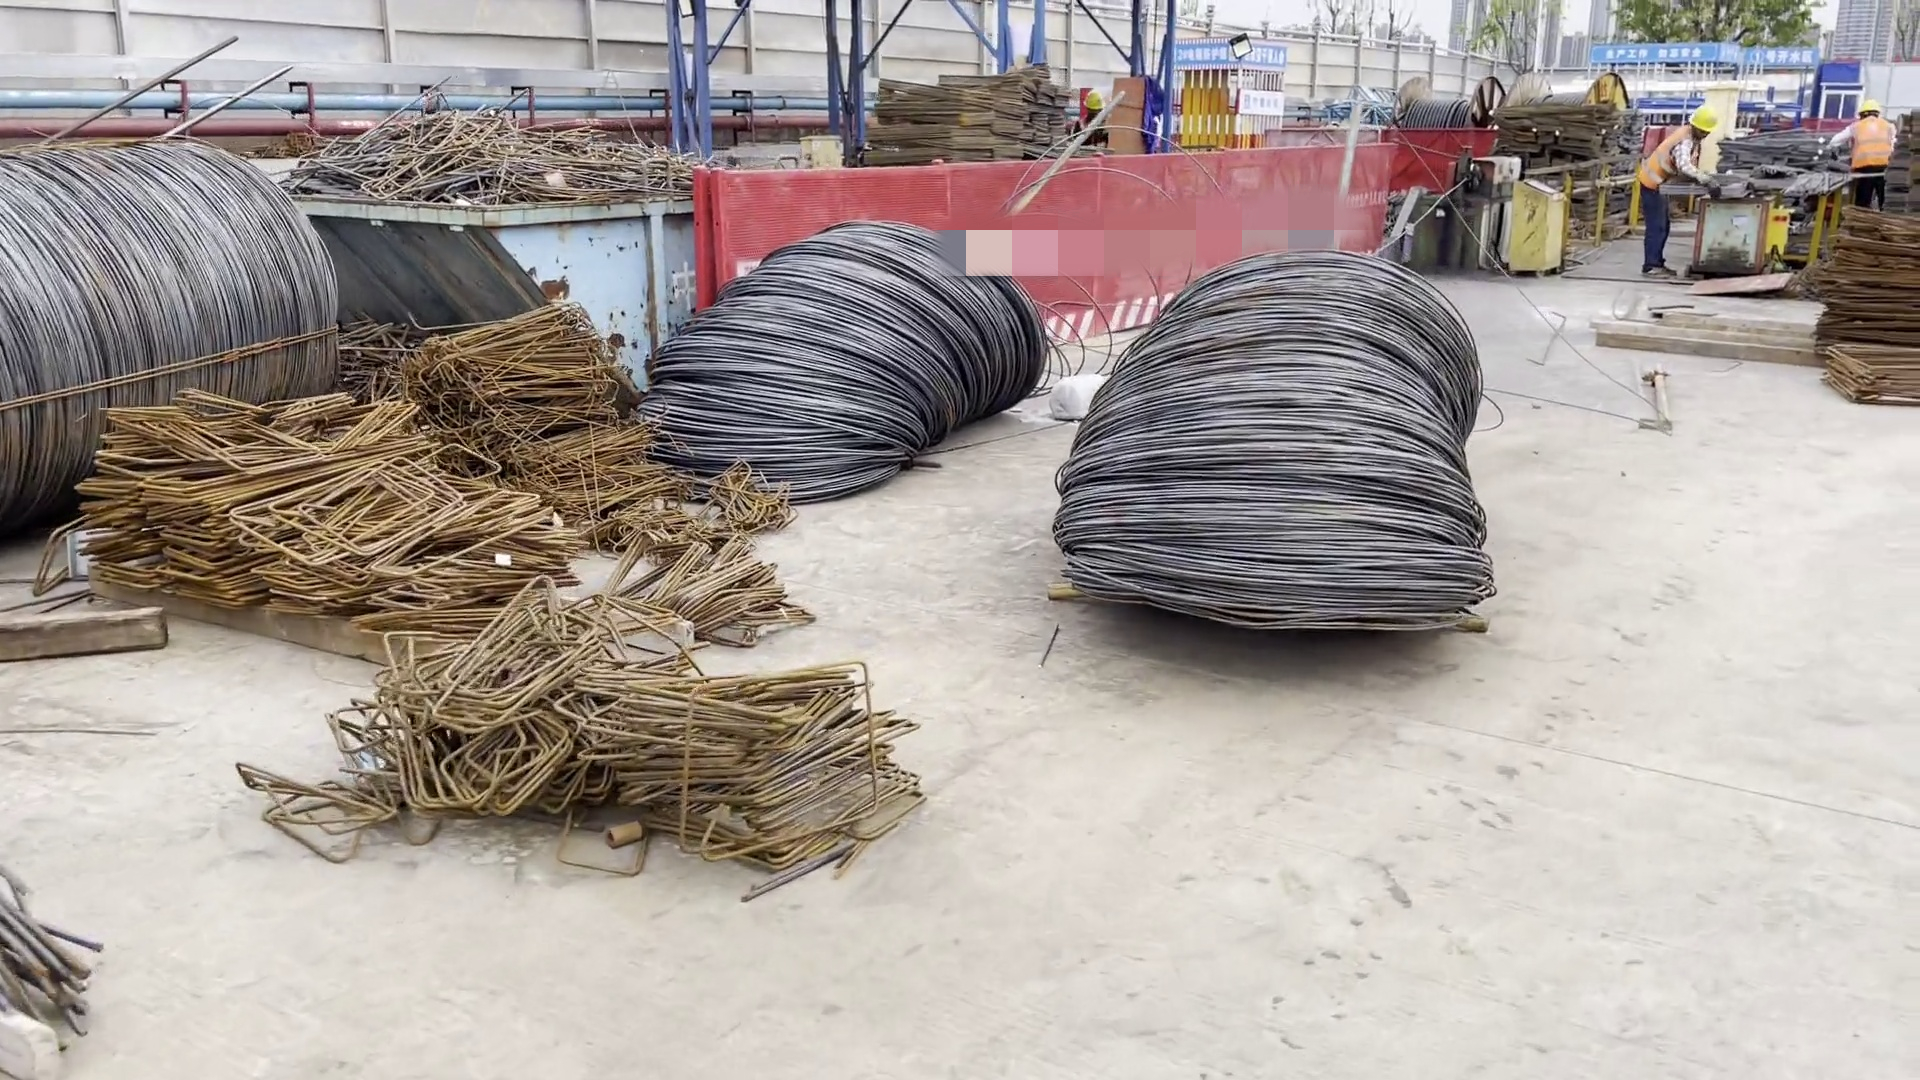cutter: (1676, 182, 1783, 276)
ebox: (1487, 176, 1579, 277), (1172, 76, 1268, 155)
fence: (687, 141, 1410, 351), (1377, 122, 1500, 214)
helmet: (1683, 106, 1720, 133), (1855, 96, 1887, 113)
hopper: (291, 170, 711, 385)
person: (1629, 77, 1724, 292), (1816, 85, 1908, 208)
slogan: (1587, 35, 1817, 77), (1176, 23, 1294, 85)
vest: (1634, 126, 1705, 204), (1849, 116, 1899, 182)
